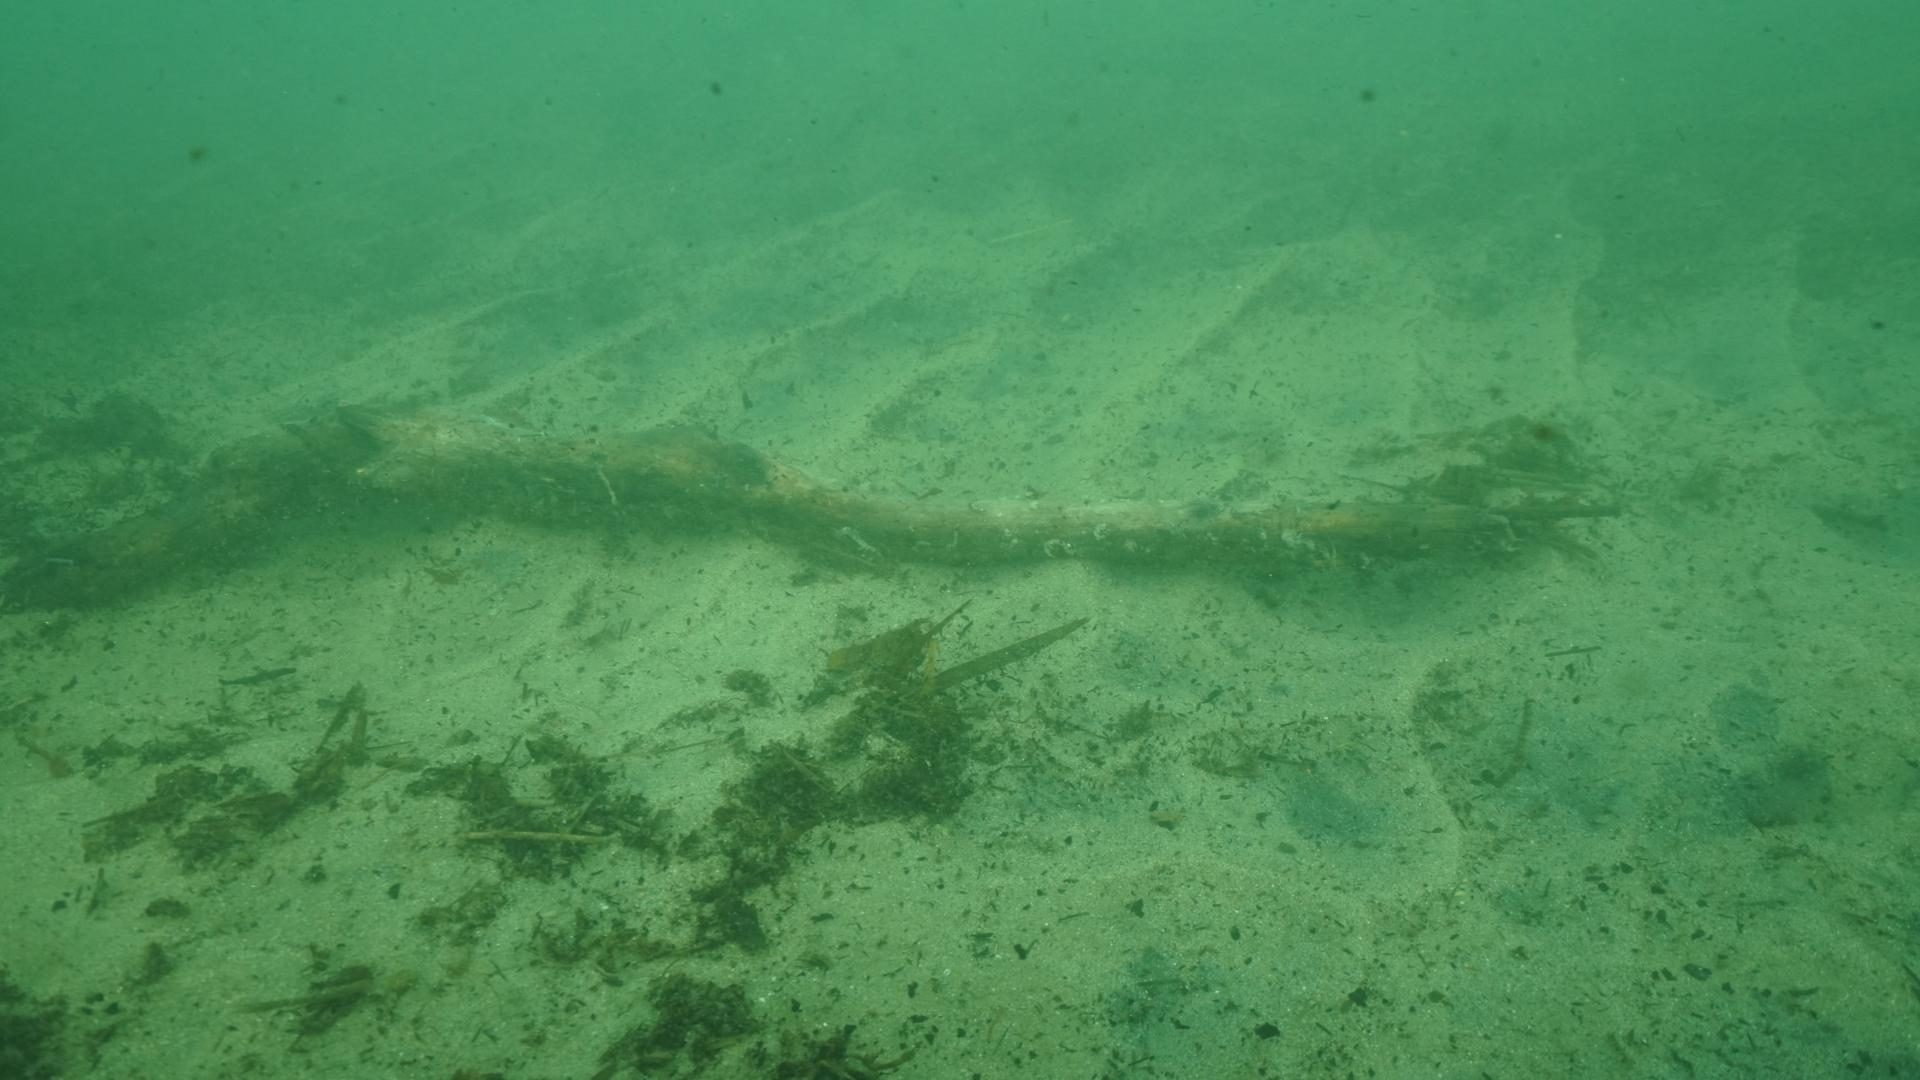wood: (332, 400, 1623, 570)
